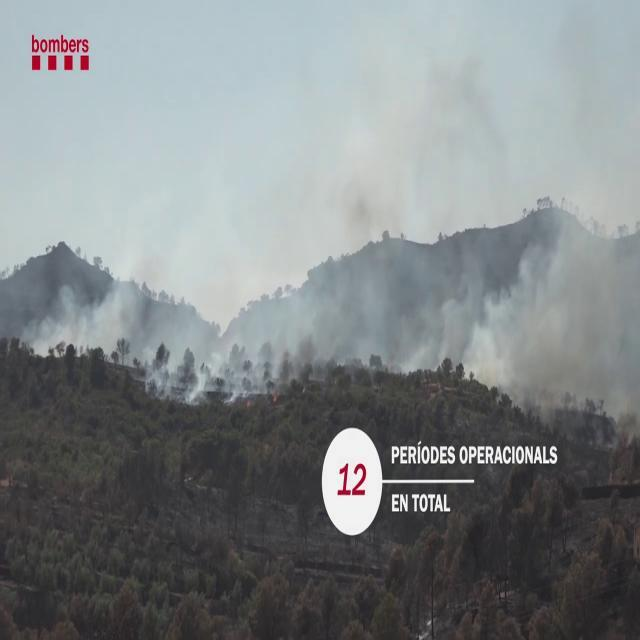Smoke: (25, 234, 482, 427), (478, 93, 640, 438)
